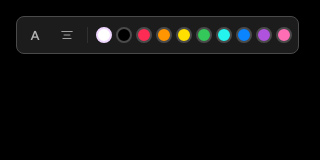
the A button cycles the four TikTok looks on this title › goes plain, highlight, soft, outline and round again, each with that look styling
The image size is (320, 160).
Click the button with test id "tiktok-style". click: [35, 35]
box: [21, 21, 49, 49]
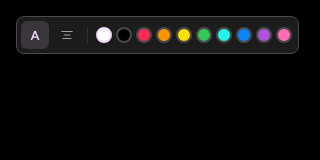
Now the button with test id "tiktok-style" has attribute data-style="highlight"
Click the button with test id "tiktok-style". click: [35, 35]
box: [21, 21, 49, 49]
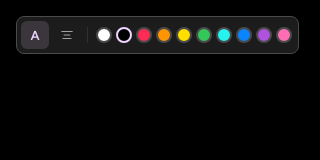
Click the button with test id "tiktok-style". click: [35, 35]
box: [21, 21, 49, 49]
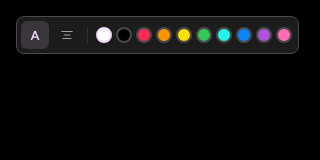
Click the button with test id "tiktok-style". click: [35, 35]
box: [21, 21, 49, 49]
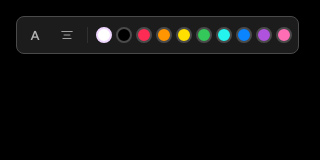
Now the button with test id "tiktok-style" has attribute data-style="plain", box [21, 21, 49, 49]
